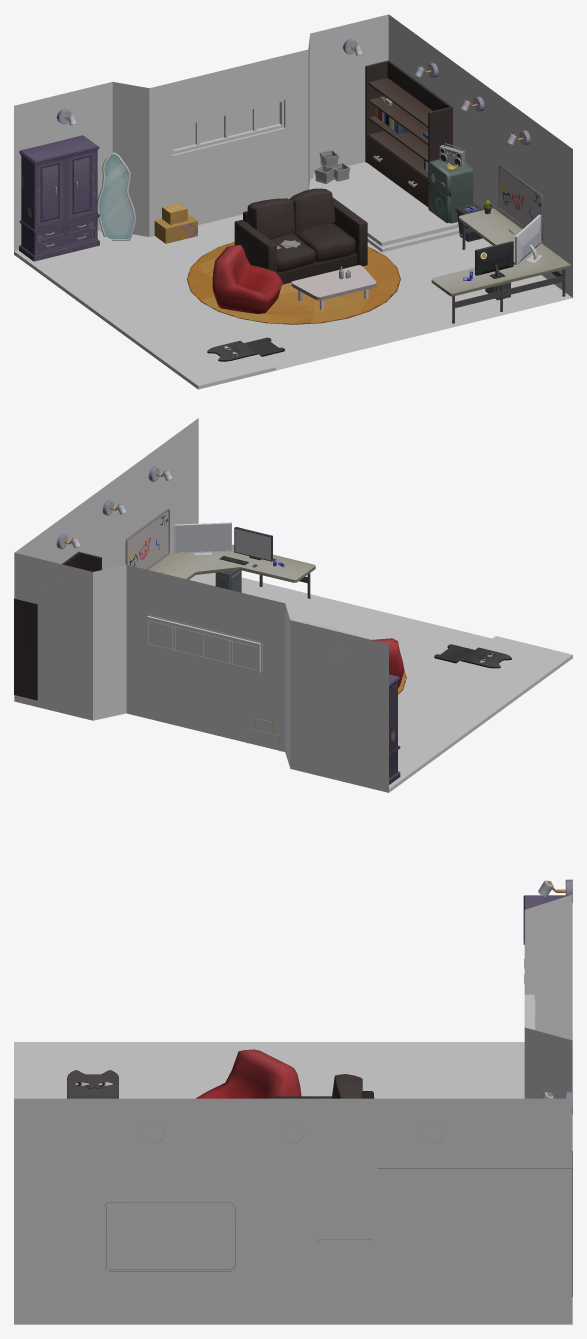
File: HangOut (3).fbx
3 views of the same model, one above another, from view 1: azimuth 30°, elevation 25°; view 2: azimuth 150°, elevation 25°; view 3: azimuth 270°, elevation 25° (orthographic). The views are drawn at different scales.
Parts seen in each view (by area): view 1: Walls, Props_Big, Props_Small; view 2: Walls, Props_Big, Props_Small; view 3: Walls, Props_Big, Props_Small.
Part boxes in pixels (box(x1,y1,x2,y2)): Walls: box(14, 14, 572, 389); Props_Big: box(19, 60, 570, 361); Props_Small: box(56, 39, 530, 280); Walls: box(14, 418, 572, 792); Props_Big: box(14, 509, 511, 784); Props_Small: box(56, 466, 344, 751); Walls: box(14, 894, 572, 1324); Props_Big: box(67, 895, 572, 1296); Props_Small: box(144, 879, 572, 1242).
Size of the model in its own units: 870 by 331 by 740.
